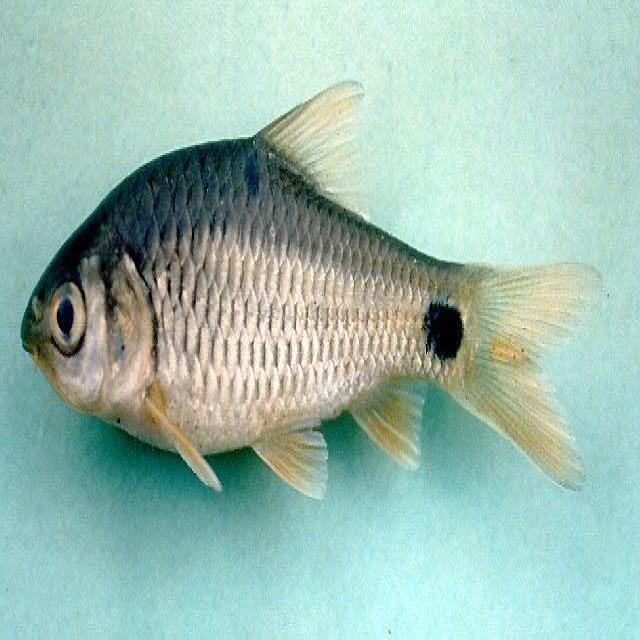Black-Spotted-Barb: (7, 25, 608, 545)
